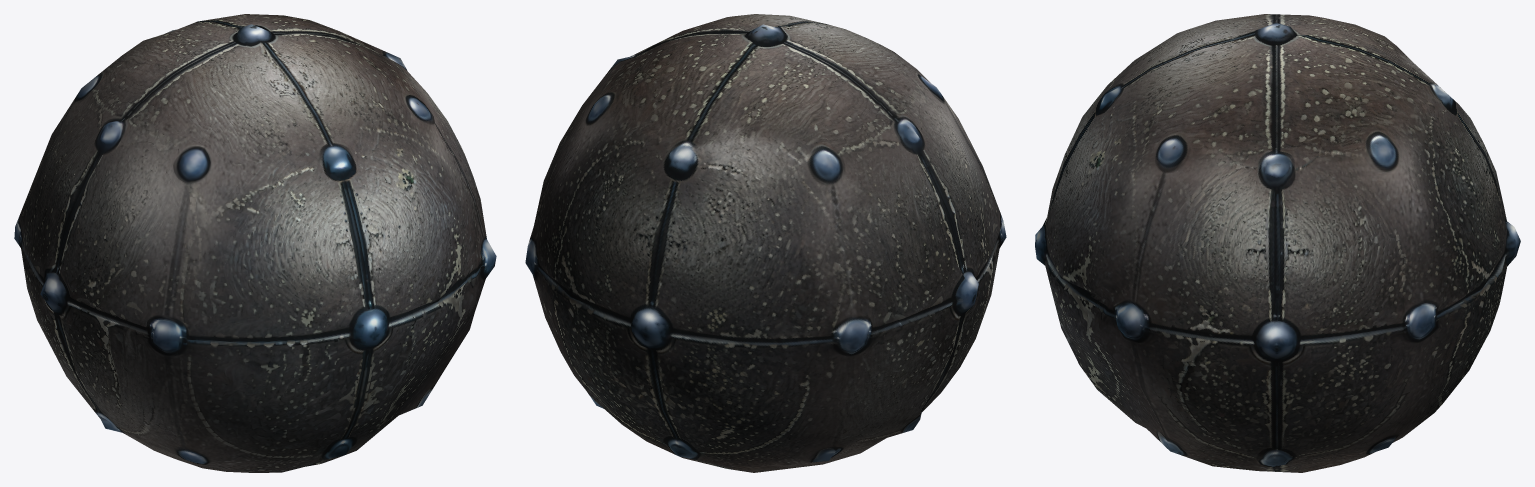
The model's file is BHS_SnakeNeck1.fbx.
The picture shows the model from 3 angles, left to right: view 1: azimuth 30°, elevation 25°; view 2: azimuth 150°, elevation 25°; view 3: azimuth 270°, elevation 25°; orthographic projection.
Parts seen in each view (by area): view 1: texture_mapping; view 2: texture_mapping; view 3: texture_mapping.
Boxes of the visible parts, box(x1,y1,x2,y2) form: texture_mapping: box(14, 14, 496, 472); texture_mapping: box(525, 14, 1006, 472); texture_mapping: box(1035, 14, 1520, 472).
Bounding box in the file's own units: 0.9987 × 0.9944 × 0.9888.
Materials: 1 (1 with a texture image).
